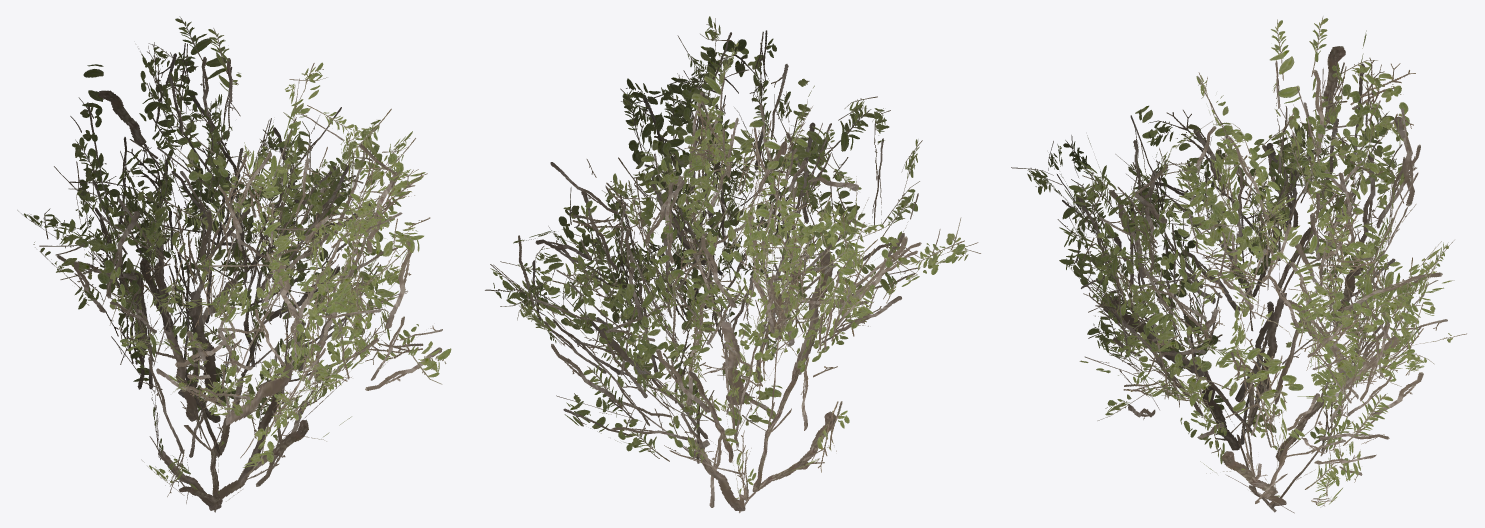
3 renders of one model, left to right at view 1: azimuth 30°, elevation 25°; view 2: azimuth 150°, elevation 25°; view 3: azimuth 270°, elevation 25°, orthographic. The views are drawn at different scales.
Parts seen in each view (by area): view 1: searsia_lucida__a_lod1; view 2: searsia_lucida__a_lod1; view 3: searsia_lucida__a_lod1.
Boxes of the visible parts, x1,y1,x2,y2 form: searsia_lucida__a_lod1: [17, 16, 451, 512]; searsia_lucida__a_lod1: [485, 16, 980, 513]; searsia_lucida__a_lod1: [1011, 16, 1466, 513].
Size of the model in its own units: 1.86 by 2.36 by 1.98.
1 material, 1 textured.
